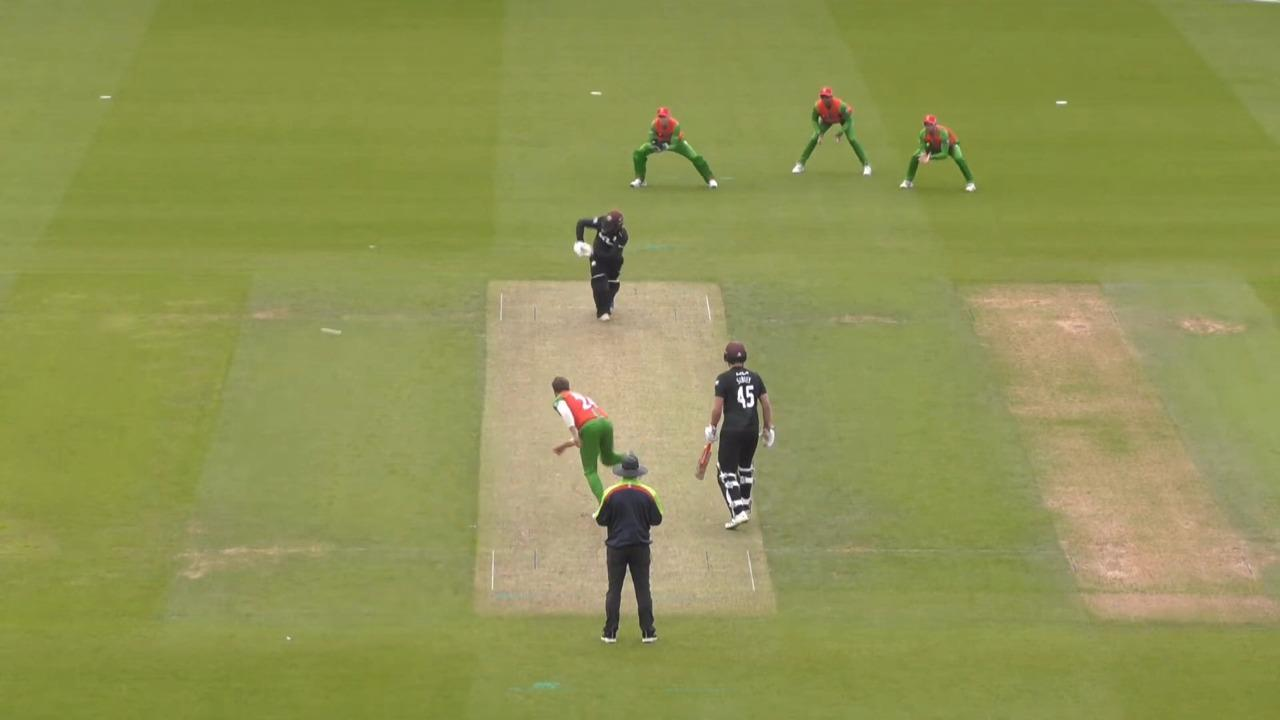sports ball: (318, 327, 342, 336)
